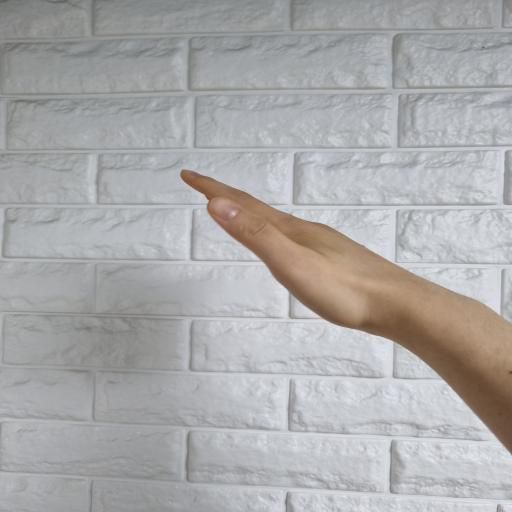Paper: (180, 169, 512, 456)
